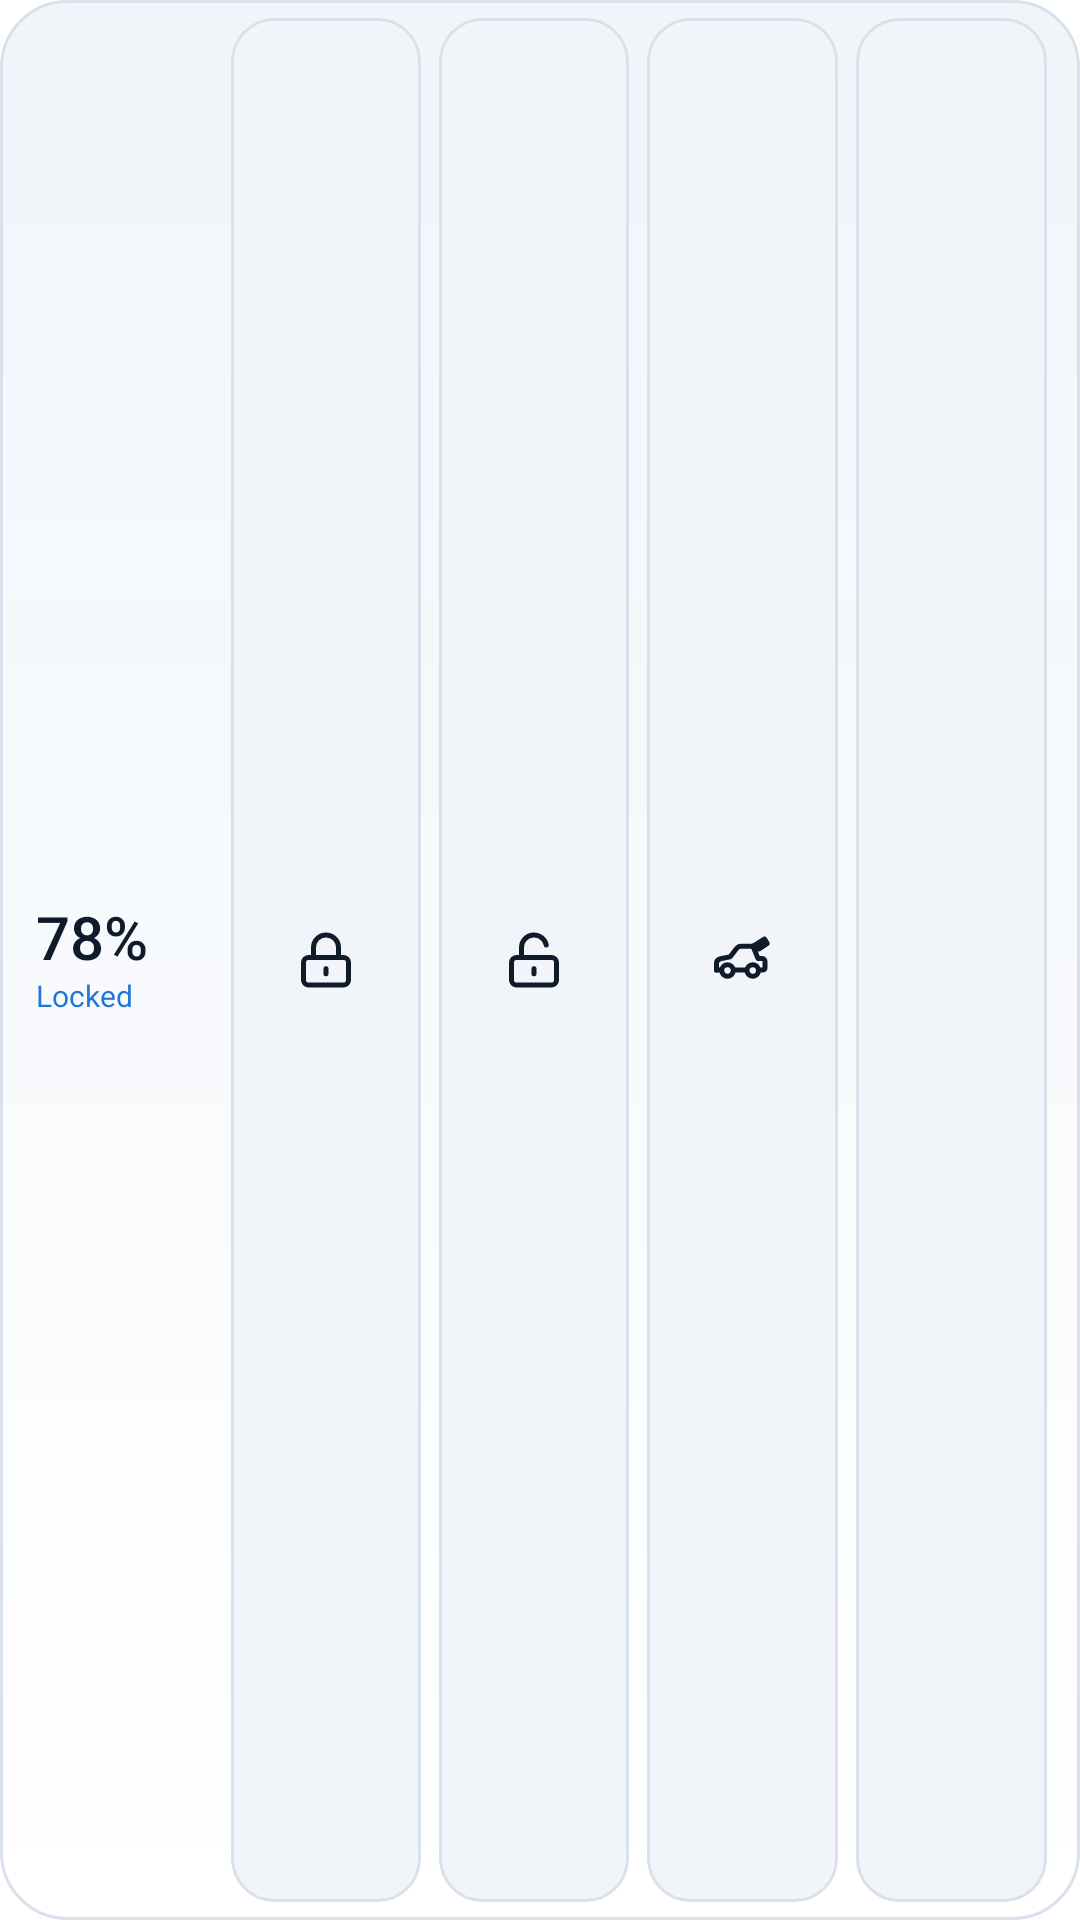

Screen size 1080w x 1920h. Icon name, then its center in pixels as (x=x, y=y):
lock: (x=326, y=960)
trunk: (x=742, y=957)
unlock: (x=534, y=960)
